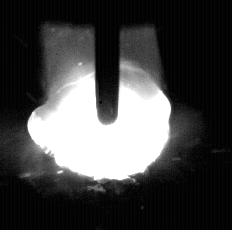arame: (96, 0, 121, 126)
poca: (25, 0, 171, 230)
